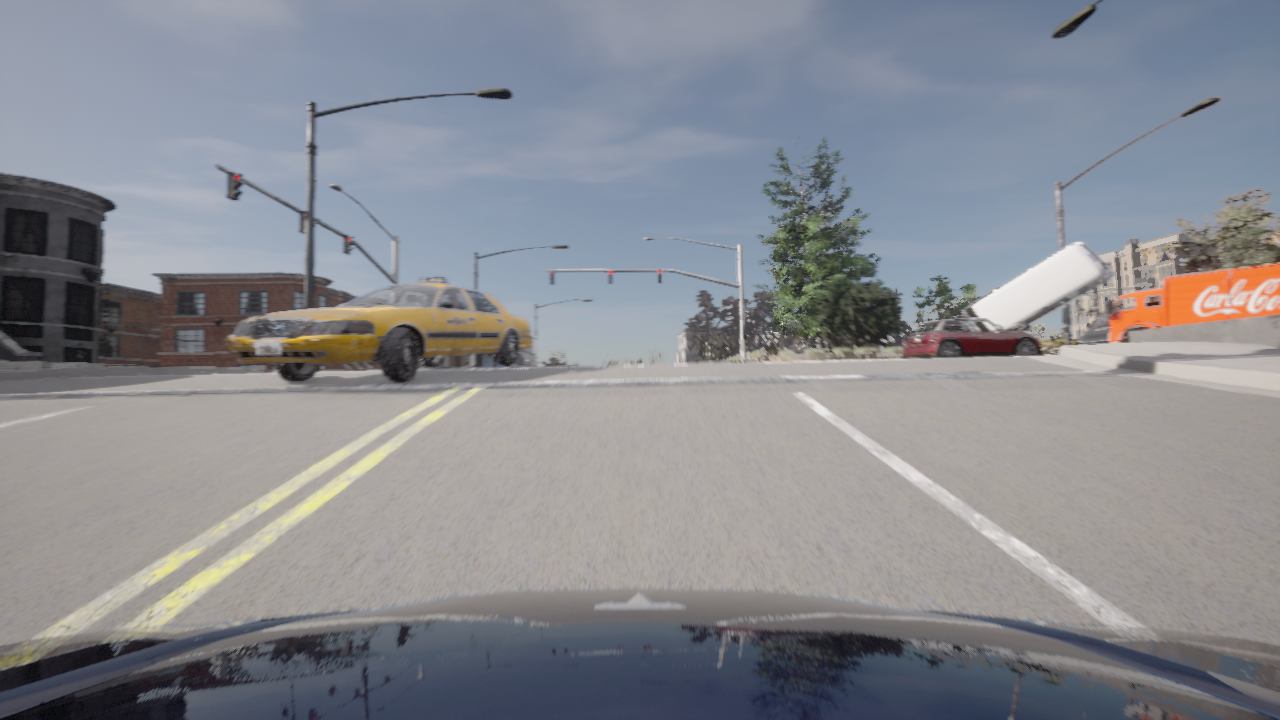cyclist: (0, 588, 1279, 719), (225, 276, 532, 382), (1105, 263, 1279, 342), (962, 241, 1113, 330), (901, 319, 1042, 357), (1078, 312, 1109, 344), (1019, 325, 1030, 331)
